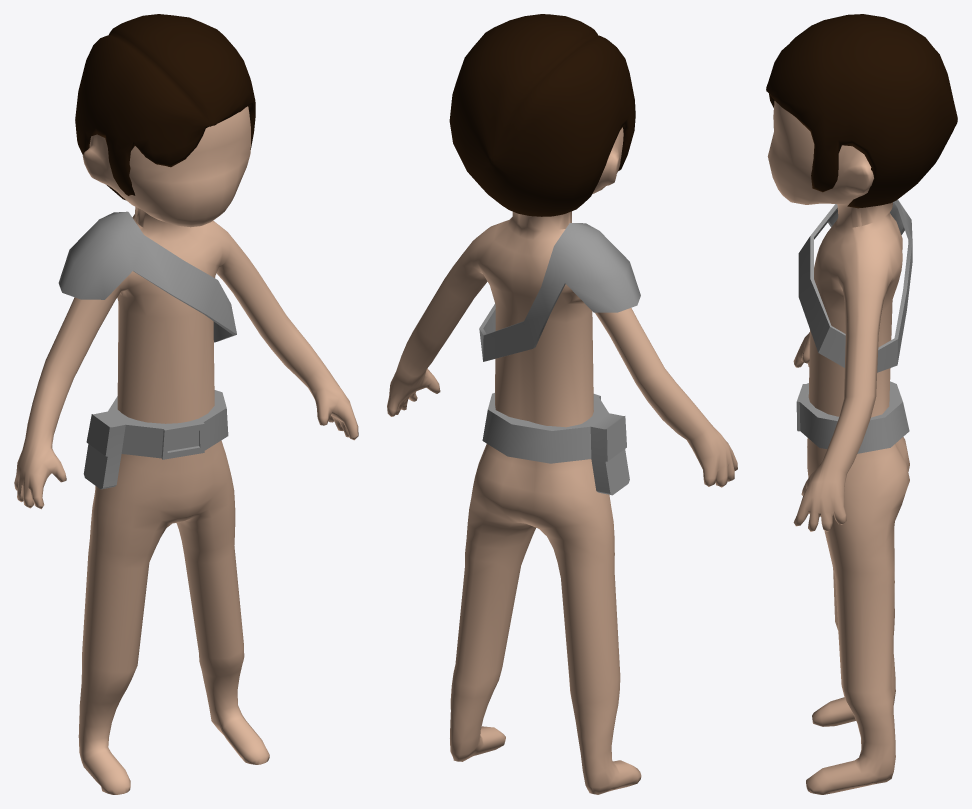
File: Dark_Character.FBX
3 views of the same model, side by side, from view 1: azimuth 30°, elevation 25°; view 2: azimuth 150°, elevation 25°; view 3: azimuth 270°, elevation 25° (orthographic). The views are drawn at different scales.
Visible parts, largest first — view 1: MC_Character, MC_Hair, Drk_Armor, Drk_Clothing; view 2: MC_Character, MC_Hair, Drk_Armor, Drk_Clothing; view 3: MC_Character, MC_Hair, Drk_Armor, Drk_Clothing.
Boxes of the visible parts, x1,y1,x2,y2 form: MC_Character: (14, 106, 358, 794); MC_Hair: (75, 14, 255, 200); Drk_Armor: (58, 211, 236, 342); Drk_Clothing: (83, 390, 228, 489); MC_Character: (387, 127, 737, 794); MC_Hair: (449, 14, 635, 216); Drk_Armor: (479, 223, 640, 361); Drk_Clothing: (482, 393, 629, 495); MC_Character: (767, 101, 909, 794); MC_Hair: (766, 14, 957, 208); Drk_Armor: (798, 199, 912, 372); Drk_Clothing: (796, 381, 909, 453).
Size of the model in its own units: 2.87 by 6.13 by 1.45.
